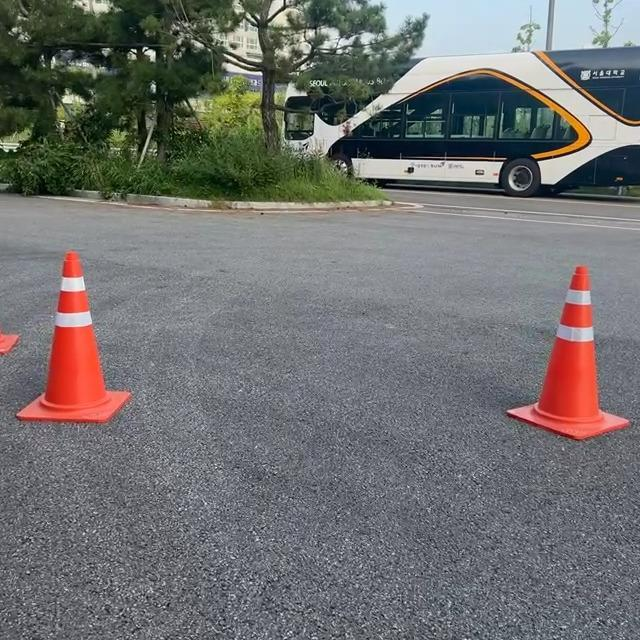fallen_object: (463, 227, 640, 517), (0, 233, 169, 437)
